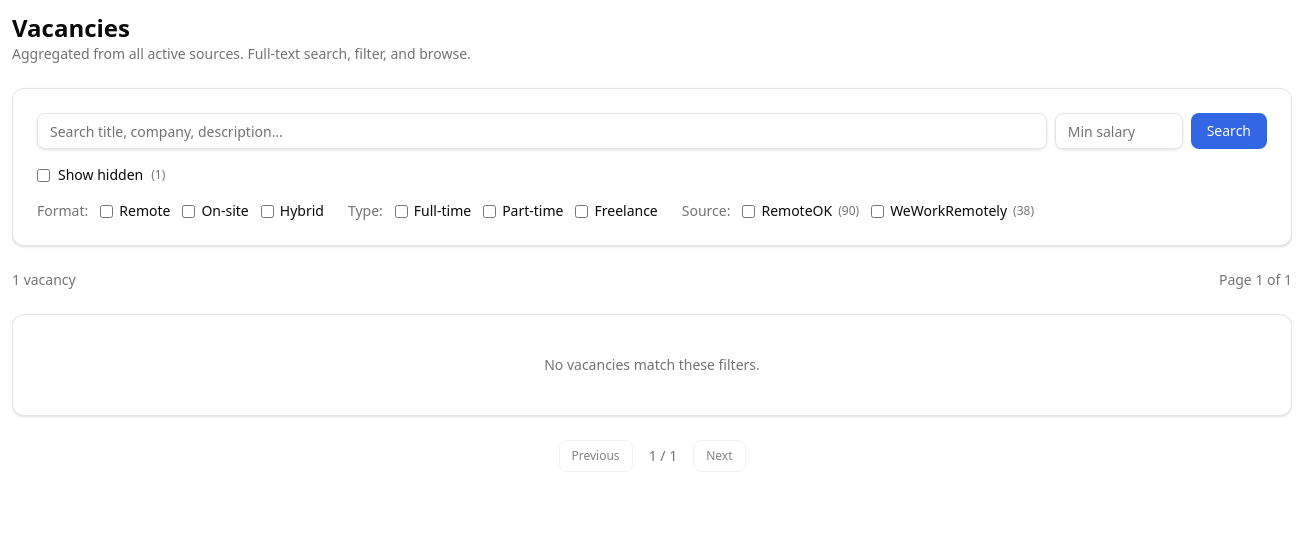
FeedBrowser › refetches with includeHidden and shows an Unhide control when showing hidden
Step 1. Click the checkbox labelled "Show hidden (1)" → (44, 175), box left=37, top=168, right=50, bottom=182
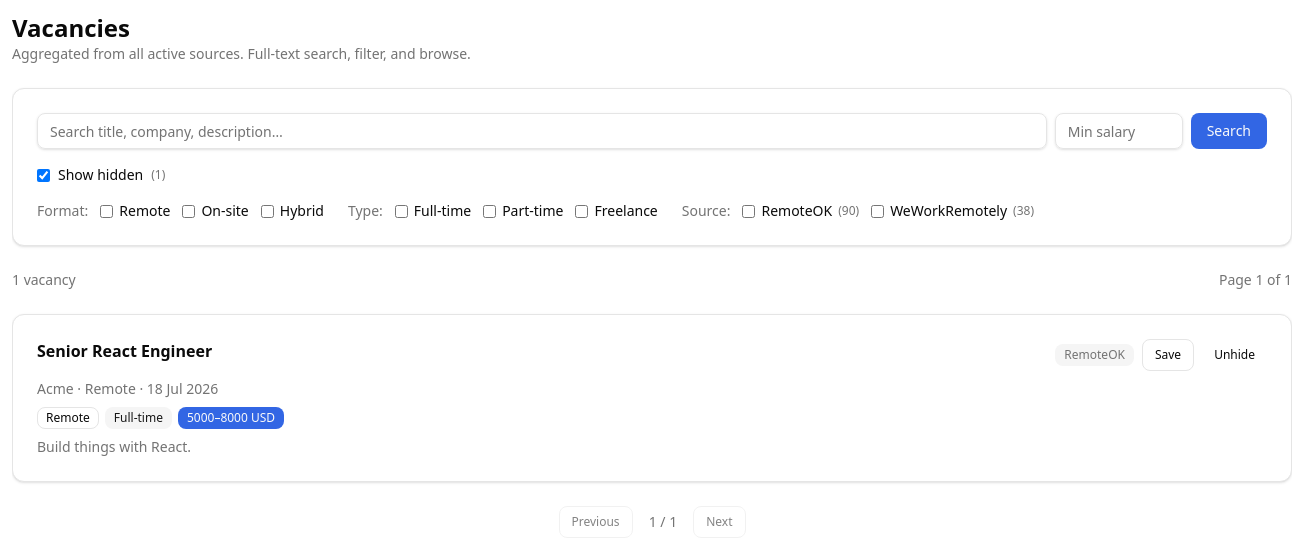
Expected: the button "Unhide" is shown, left=1202, top=339, right=1267, bottom=371
